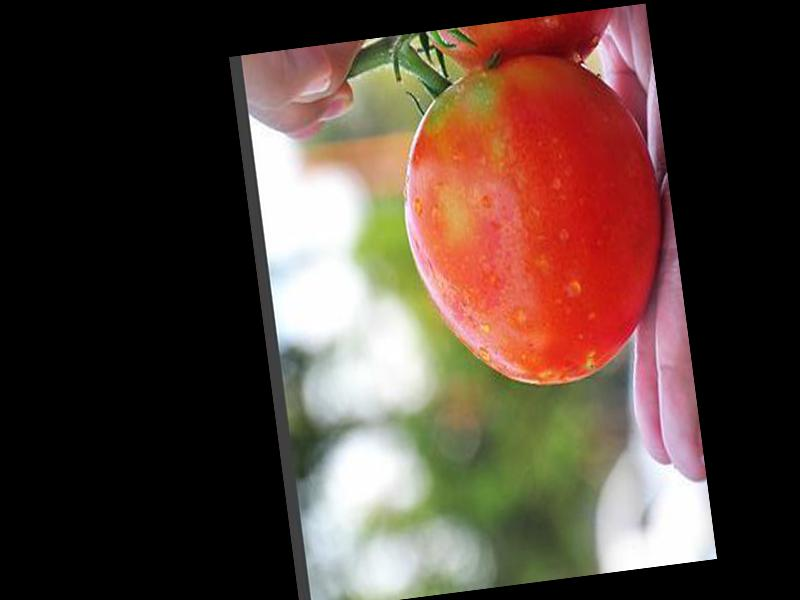Tomato: (386, 44, 678, 399)
